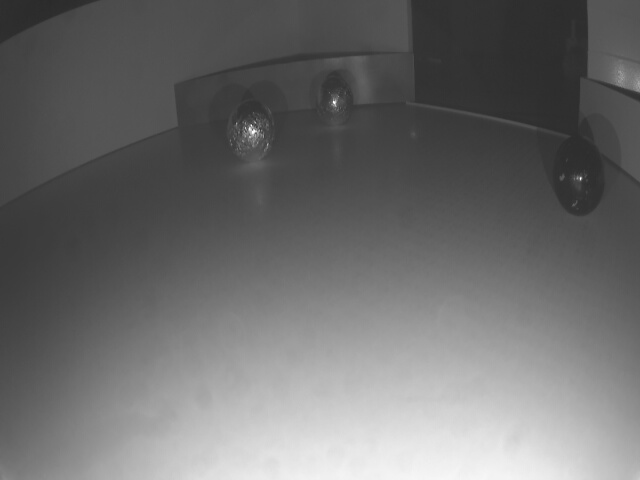Dead: (553, 134, 608, 219)
Green: (174, 54, 417, 127)
Live: (226, 99, 279, 162), (314, 79, 355, 127)
Red: (577, 76, 640, 181)
